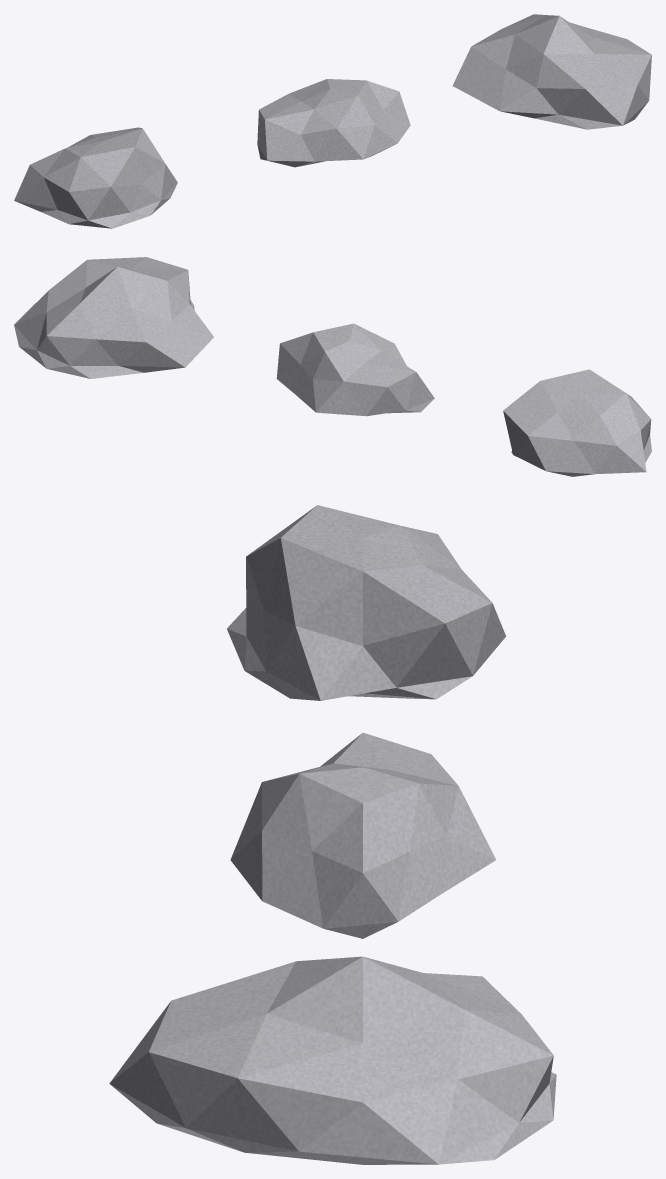
File: rock.glb
3 views of the same model, one above another, from view 1: azimuth 30°, elevation 25°; view 2: azimuth 150°, elevation 25°; view 3: azimuth 270°, elevation 25° (orthographic). The views are drawn at different scales.
Parts seen in each view (by area): view 1: rock_3, rock_1, rock_2; view 2: rock_3, rock_1, rock_2; view 3: rock_3, rock_1, rock_2.
Part boxes in pixels (box(x1,y1,x2,y2)): rock_3: box(452, 14, 651, 129); rock_1: box(14, 127, 177, 228); rock_2: box(257, 79, 410, 167); rock_3: box(14, 257, 213, 378); rock_1: box(503, 369, 651, 476); rock_2: box(276, 323, 434, 416); rock_3: box(109, 956, 556, 1164); rock_1: box(227, 505, 505, 700); rock_2: box(230, 732, 495, 938).
Bounding box in the file's own units: 80.7 × 9.85 × 25.36.
3 materials, 3 textured.
